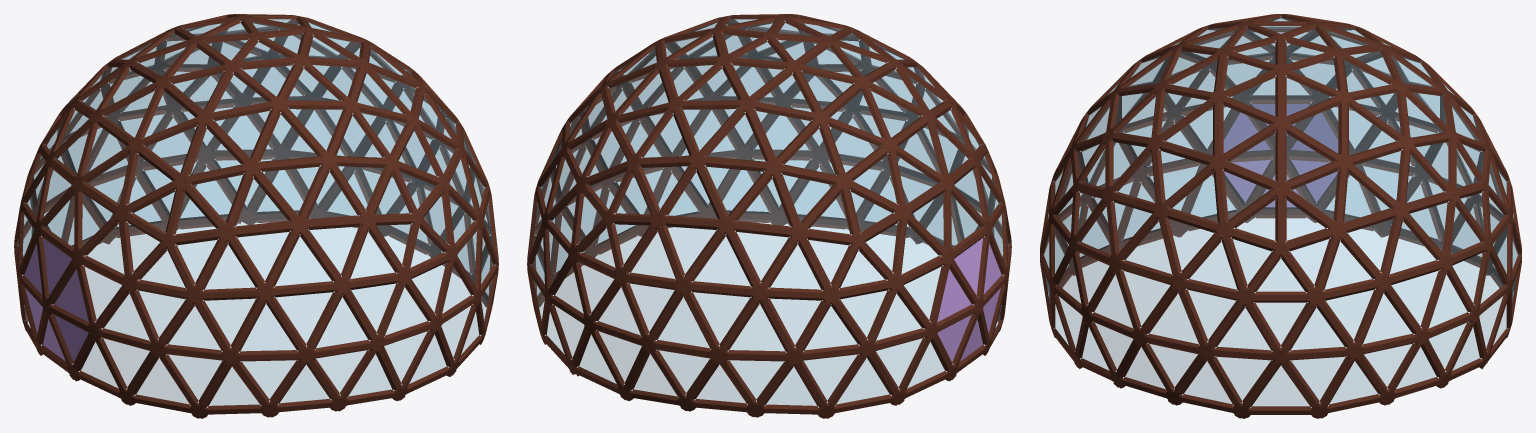
File: Dome2.glb
3 renders of one model, left to right at view 1: azimuth 30°, elevation 25°; view 2: azimuth 150°, elevation 25°; view 3: azimuth 270°, elevation 25°, orthographic.
Parts seen in each view (by area): view 1: Icosphere, Icosphere.001, Icosphere.002; view 2: Icosphere, Icosphere.001, Icosphere.002; view 3: Icosphere, Icosphere.001, Icosphere.002.
Boxes of the visible parts, bbox=[...] form: Icosphere: bbox=[14, 14, 498, 418]; Icosphere.001: bbox=[24, 238, 88, 362]; Icosphere.002: bbox=[21, 237, 88, 365]; Icosphere: bbox=[527, 14, 1011, 418]; Icosphere.001: bbox=[937, 238, 1001, 362]; Icosphere.002: bbox=[937, 237, 1004, 365]; Icosphere: bbox=[1040, 14, 1521, 418]; Icosphere.001: bbox=[1223, 104, 1338, 207]; Icosphere.002: bbox=[1222, 102, 1339, 204].
Size of the model in its own units: 1.99 by 1.31 by 1.99.
